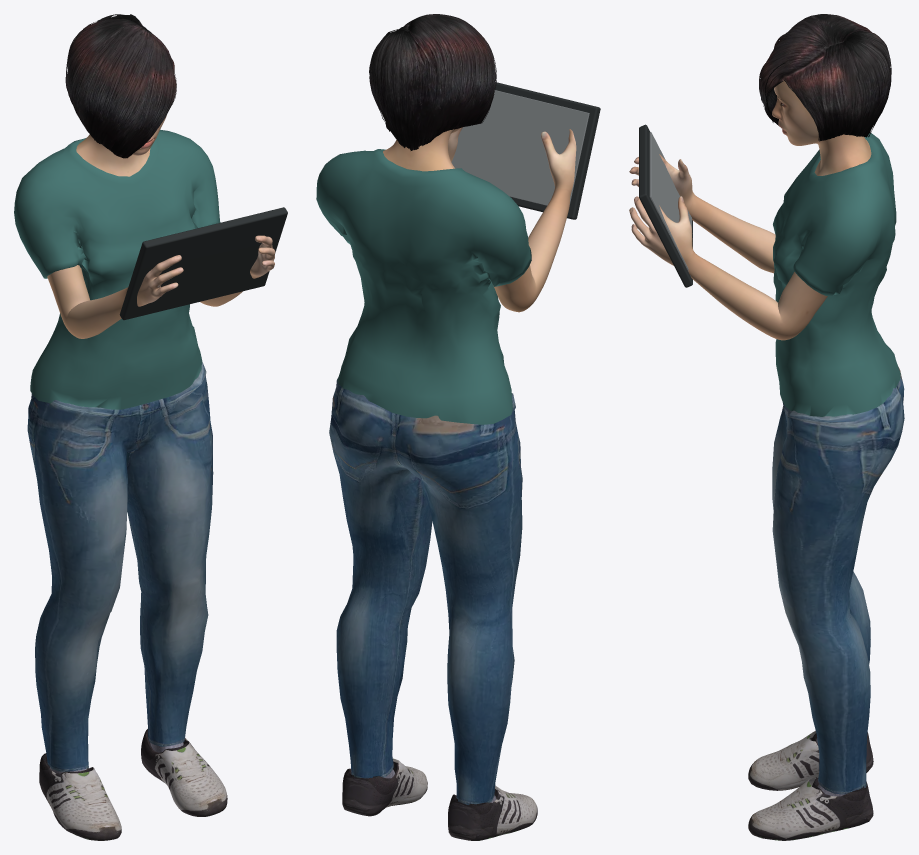
The model's file is football-coach-tablet-figure.glb.
3 renders of one model, left to right at view 1: azimuth 30°, elevation 25°; view 2: azimuth 150°, elevation 25°; view 3: azimuth 270°, elevation 25°, orthographic. The views are drawn at different scales.
Visible parts, largest first — view 1: female_casualsuit01, bob01, Tablet case, shoes05, Riley | anatomical body; view 2: female_casualsuit01, bob01, Tablet display, Riley | anatomical body, shoes05, Tablet case; view 3: female_casualsuit01, Riley | anatomical body, bob01, shoes05, Tablet case, Tablet display.
Part boxes in pixels (<box>): female_casualsuit01: <box>14,129,220,771</box>; bob01: <box>65,14,176,158</box>; Tablet case: <box>119,207,287,320</box>; shoes05: <box>39,729,227,840</box>; Riley | anatomical body: <box>47,115,275,338</box>; female_casualsuit01: <box>316,149,531,804</box>; bob01: <box>369,14,496,150</box>; Tablet display: <box>451,90,589,205</box>; Riley | anatomical body: <box>383,127,576,312</box>; shoes05: <box>342,758,537,840</box>; Tablet case: <box>494,82,600,219</box>; female_casualsuit01: <box>772,133,904,794</box>; Riley | anatomical body: <box>629,80,871,340</box>; bob01: <box>759,14,891,141</box>; shoes05: <box>748,731,873,840</box>; Tablet case: <box>639,124,692,287</box>; Tablet display: <box>649,132,691,276</box>.
Size of the model in its own units: 0.4301 by 1.67 by 0.5299.
11 materials, 8 textured.
